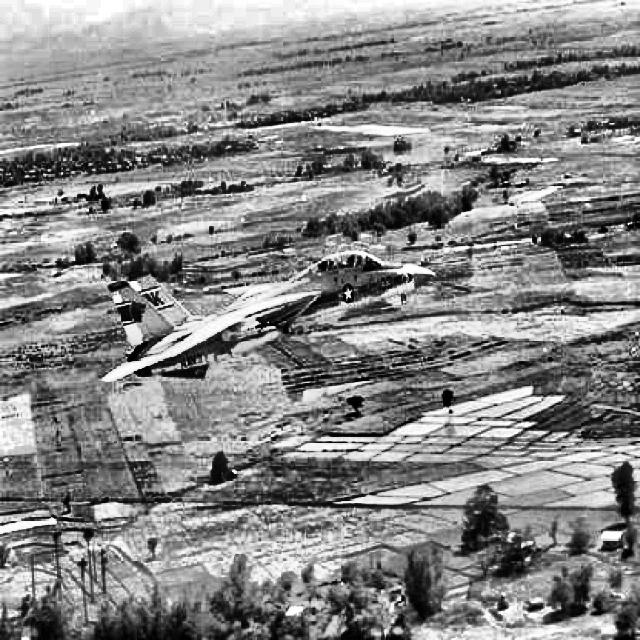F14: (102, 250, 436, 384)
